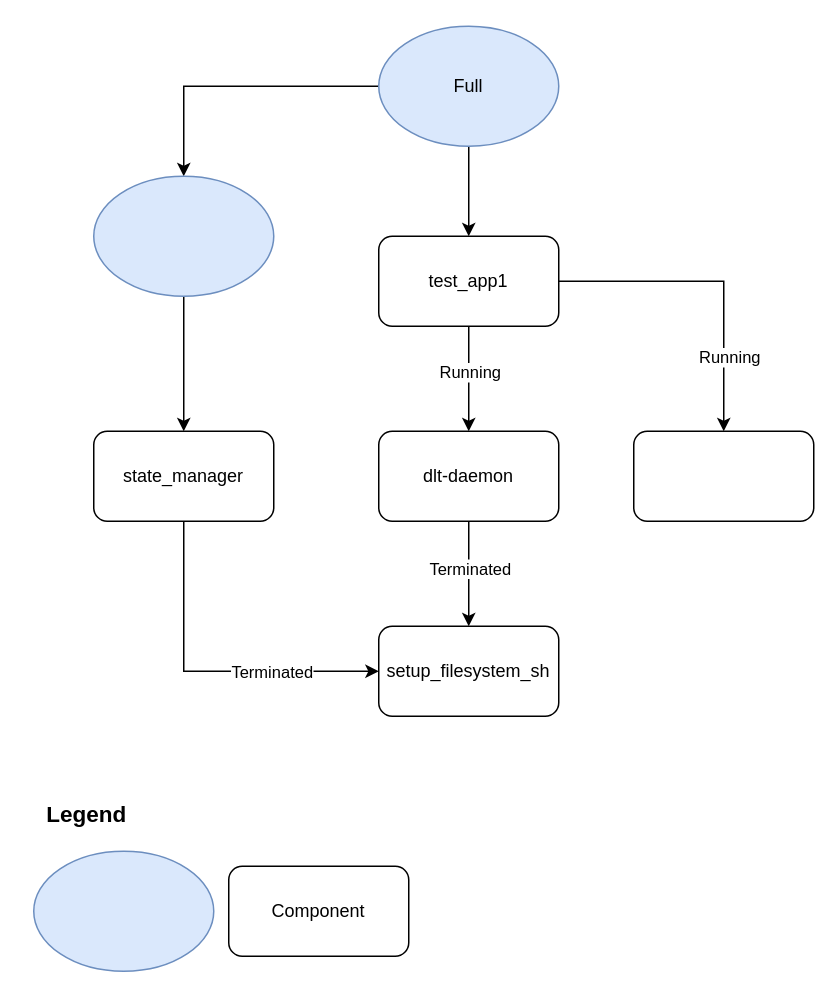
This 840x998 diagram has some shape labels left out. The centre of each missing label's shape, as x and y in pixels:
"Minimal" belongs at (x=183, y=235).
"RunTarget" belongs at (x=123, y=910).
"someip-daemon" belongs at (x=723, y=475).
